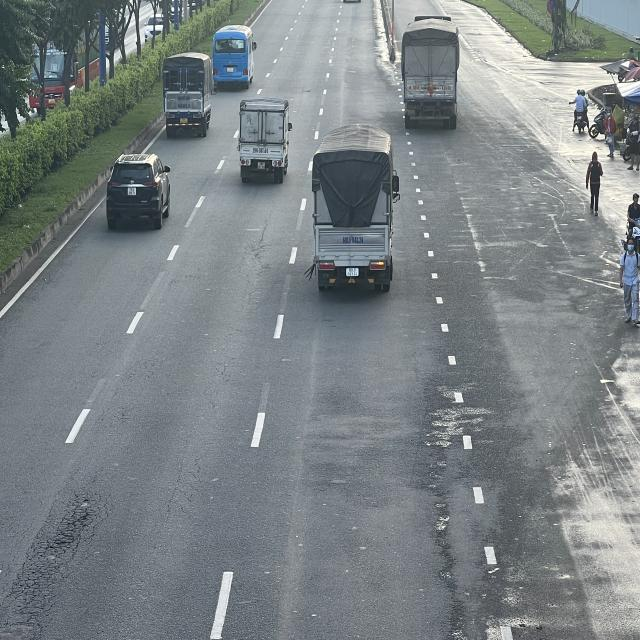car: (105, 155, 172, 231)
coach: (212, 26, 256, 88)
truck: (311, 127, 399, 290), (399, 20, 460, 132), (238, 99, 294, 184), (165, 52, 215, 135)
